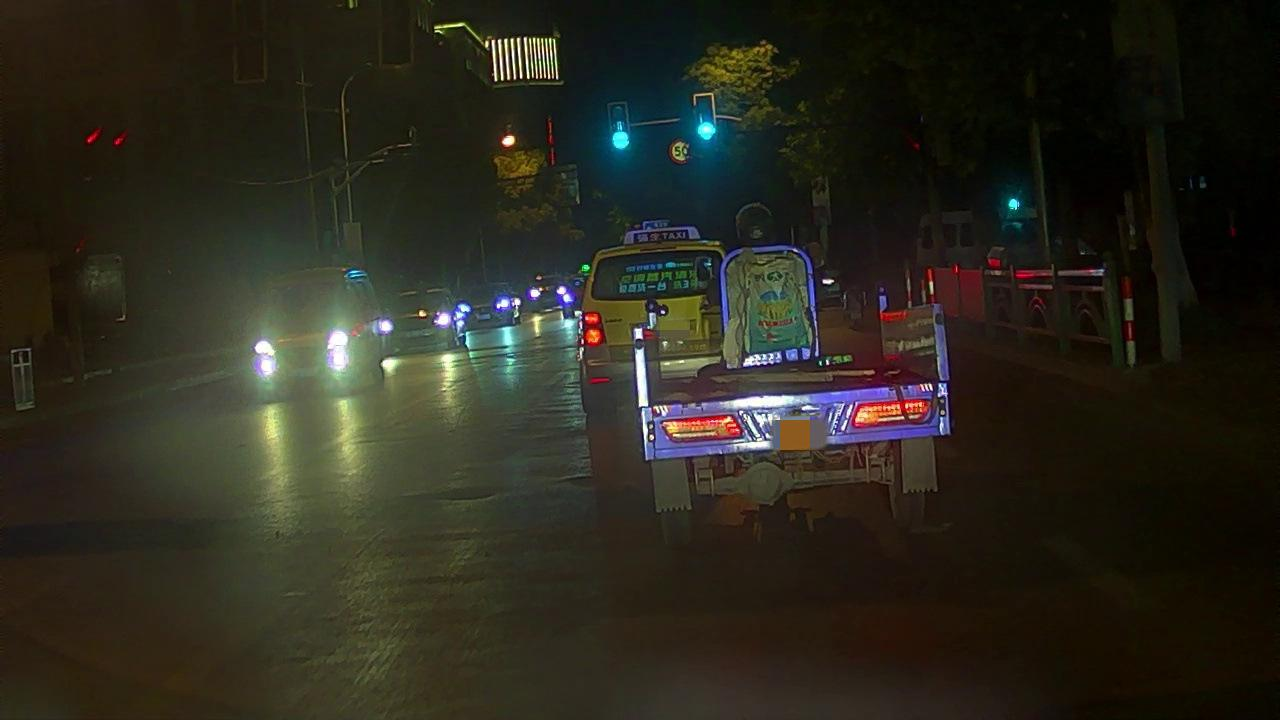traffic_light: (235, 3, 266, 82), (381, 1, 411, 66), (696, 94, 714, 145), (612, 104, 629, 152)
